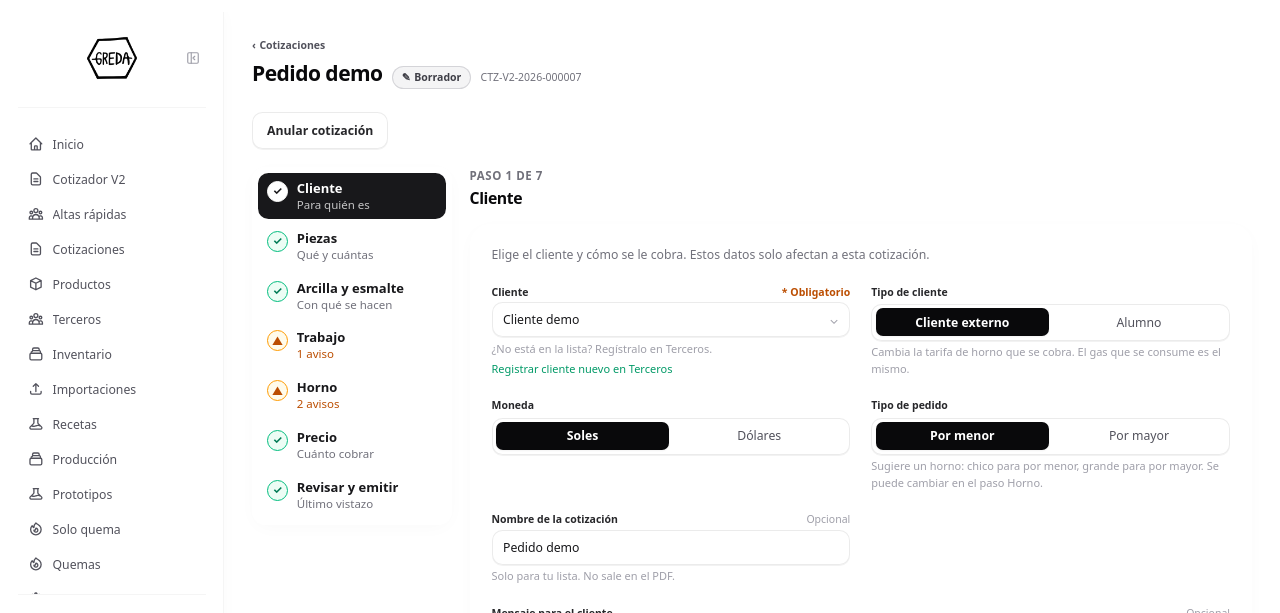
Test: shell del Cotizador V2 rediseñado: pasos y navegación › un guardado fallido se avisa en todos los pasos, no encierra y se descarta
Click the radio button labelled "Alumno" at point(1139, 322), box [1052,308,1226,336]
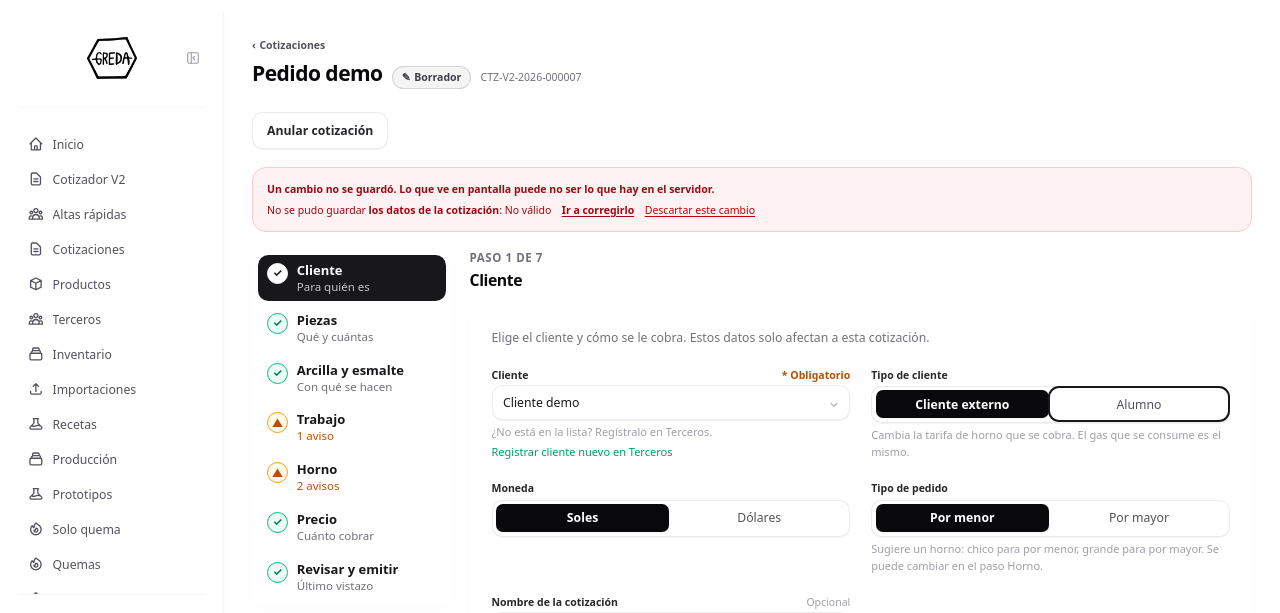
Now the message with test id "v2next-guardados-fallidos" shows "Un cambio no se guardó.", box [267,182,397,196]
// Se puede ir a cualquier otro paso con el fallo pendiente.
Click the button named "Paso 6: Precio" at point(352, 528), box [258,505,446,551]
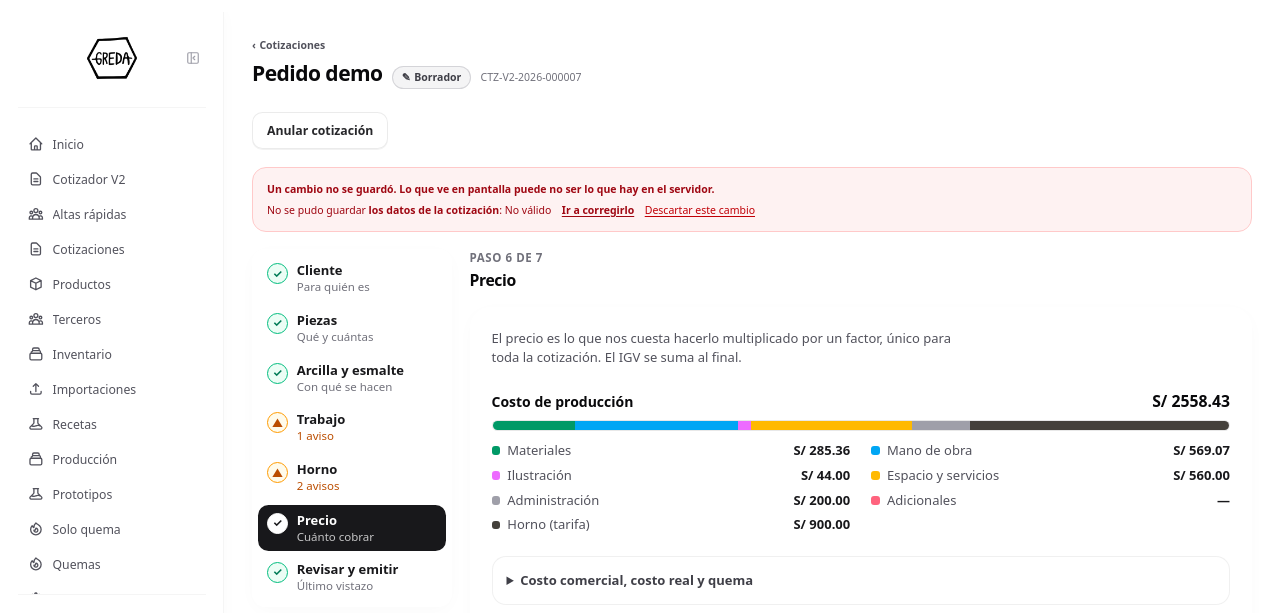
Now the message with test id "v2next-guardados-fallidos" is shown, box [252,166,1252,232]
Now the heading "Precio" is shown, box [470,269,516,291]
// «Ir a corregirlo» vuelve al paso del fallo.
Click the button "Ir a corregirlo" at point(598, 210), box [562,202,634,216]
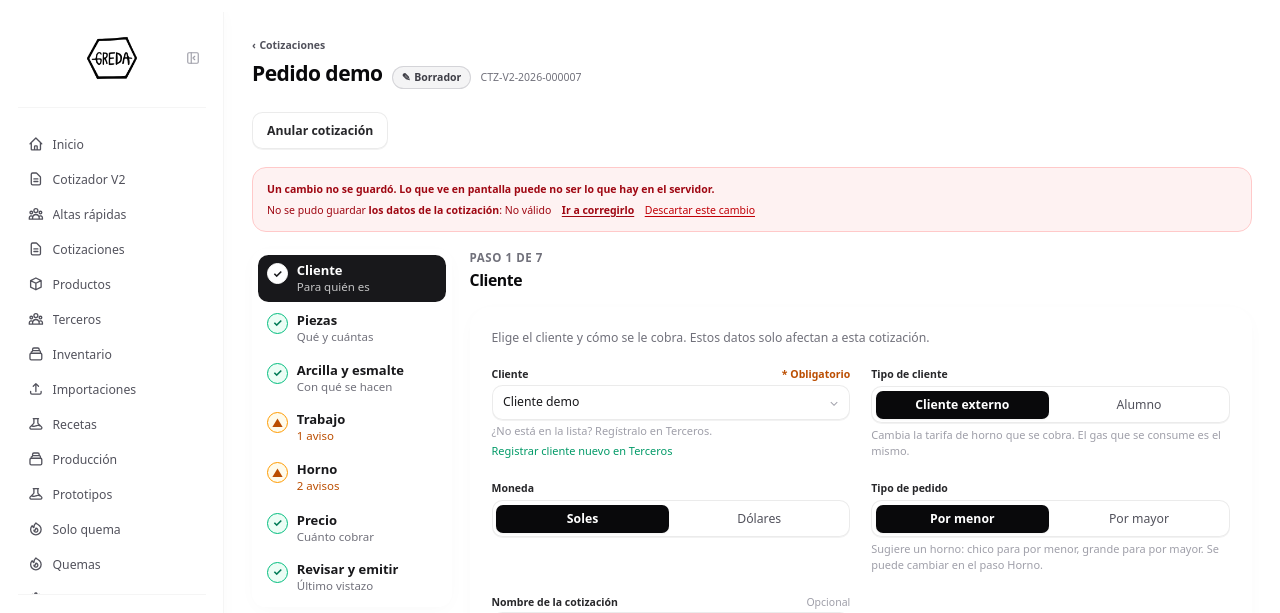
Now the heading "Cliente" is shown, box [470,269,522,291]
Click the button "Descartar este cambio" at point(700, 210), box [645,202,755,216]
(page scrolled)
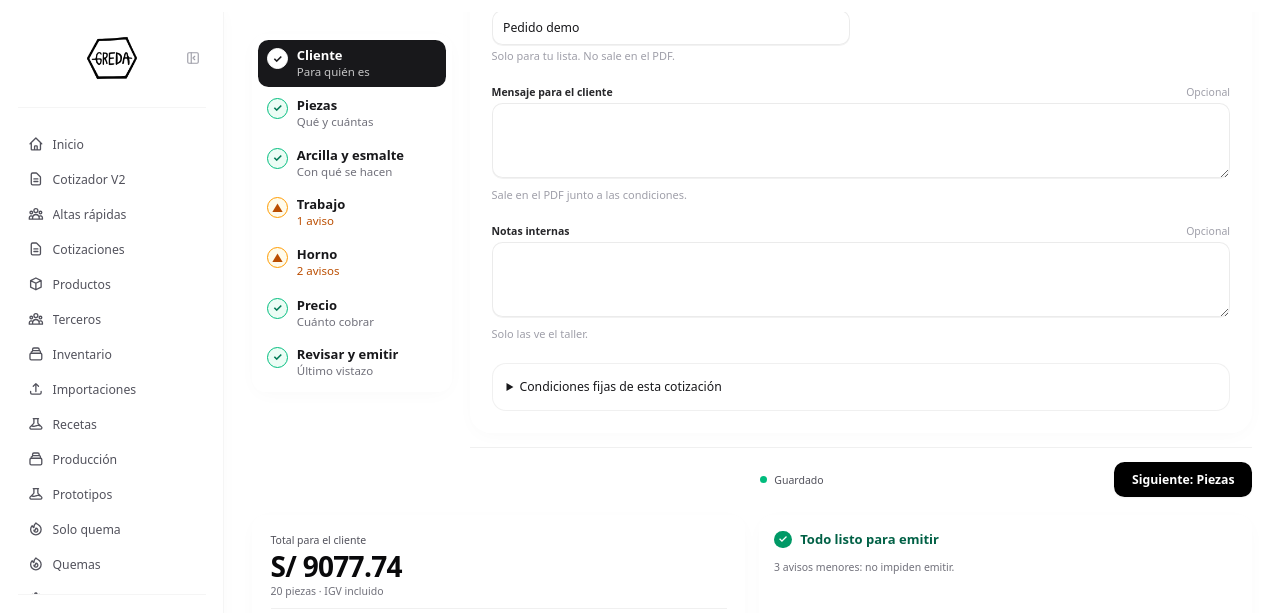
Now the message with test id "v2next-guardados-fallidos" is gone
Now the message with test id "v2next-estado-guardado" reads "Guardado", box [774,472,824,486]
